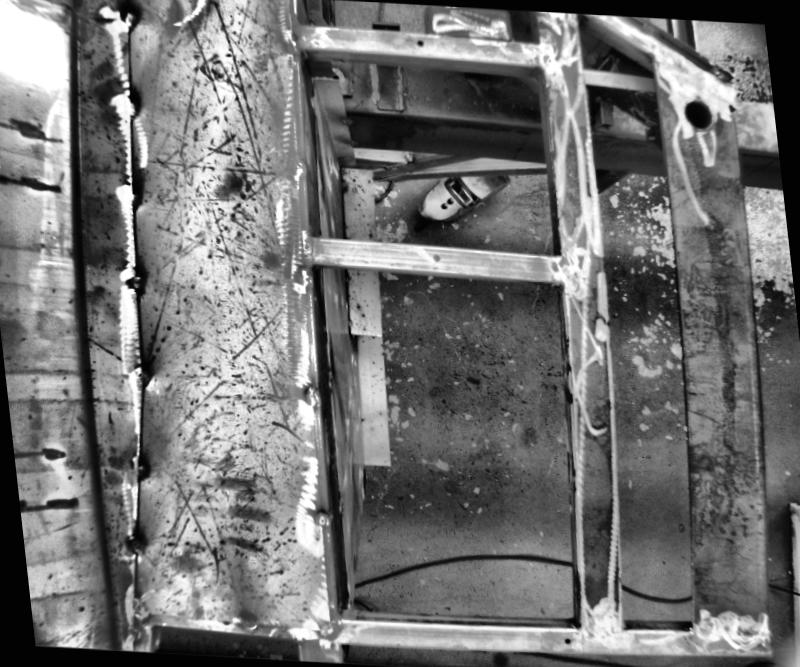hole: (680, 93, 718, 130), (432, 252, 441, 260), (416, 37, 425, 44), (564, 637, 572, 644)
